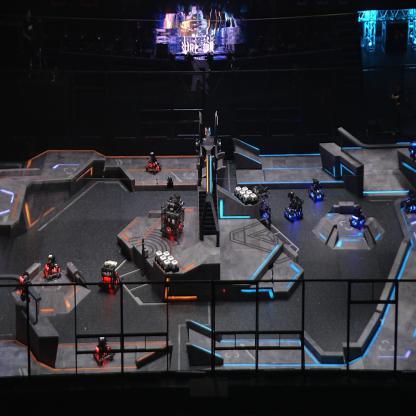car: (248, 181, 272, 228), (160, 197, 186, 240), (91, 334, 116, 368), (99, 259, 123, 294), (284, 191, 304, 222), (42, 254, 62, 283), (307, 177, 325, 202), (349, 204, 366, 230), (146, 151, 162, 175), (403, 189, 416, 215)
